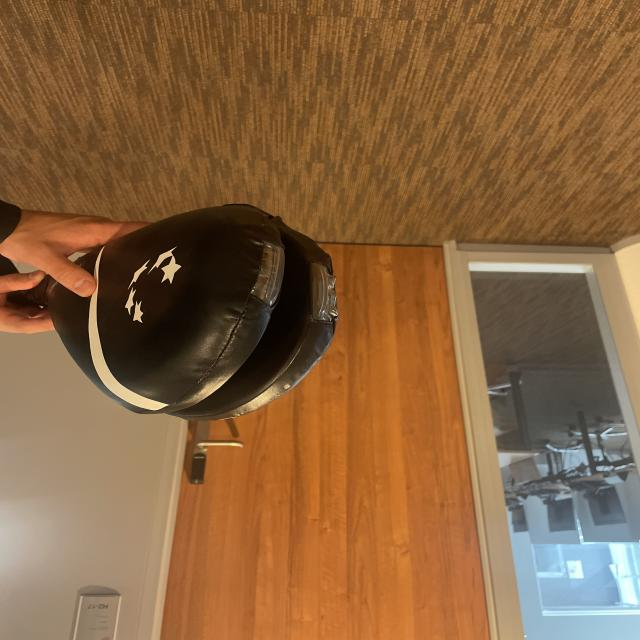paddle: (53, 215, 333, 418)
